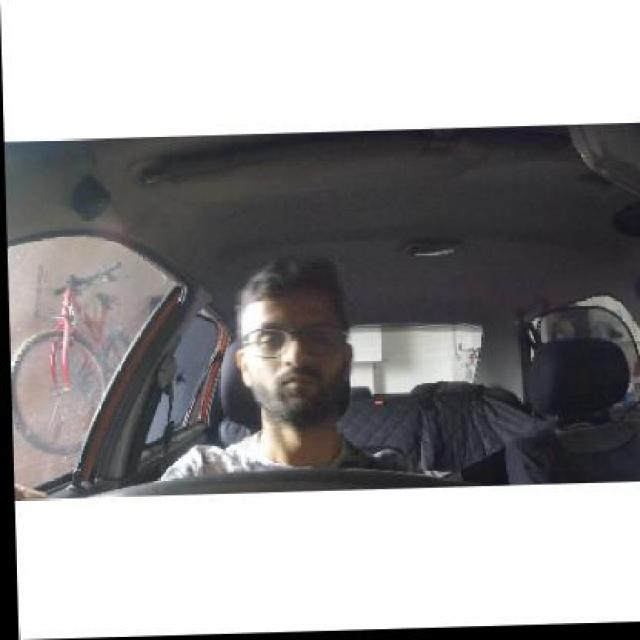drowsy: (237, 249, 363, 426)
